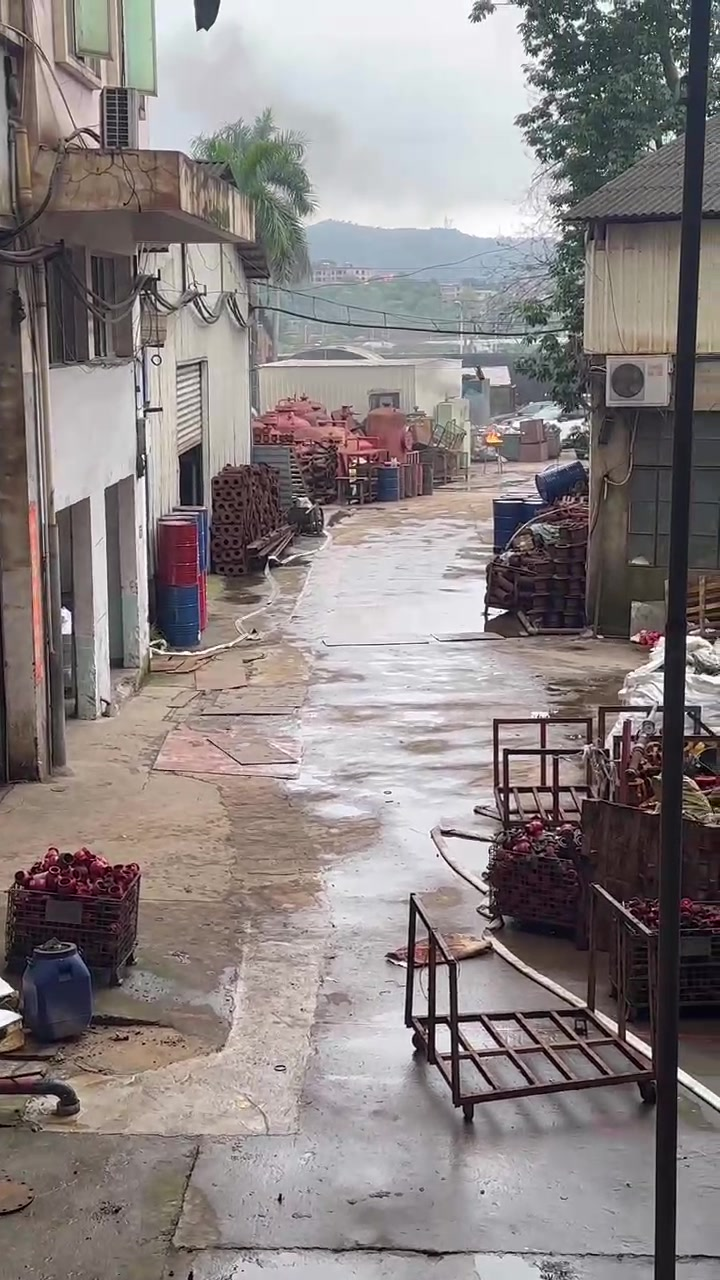fire: (485, 429, 503, 442)
